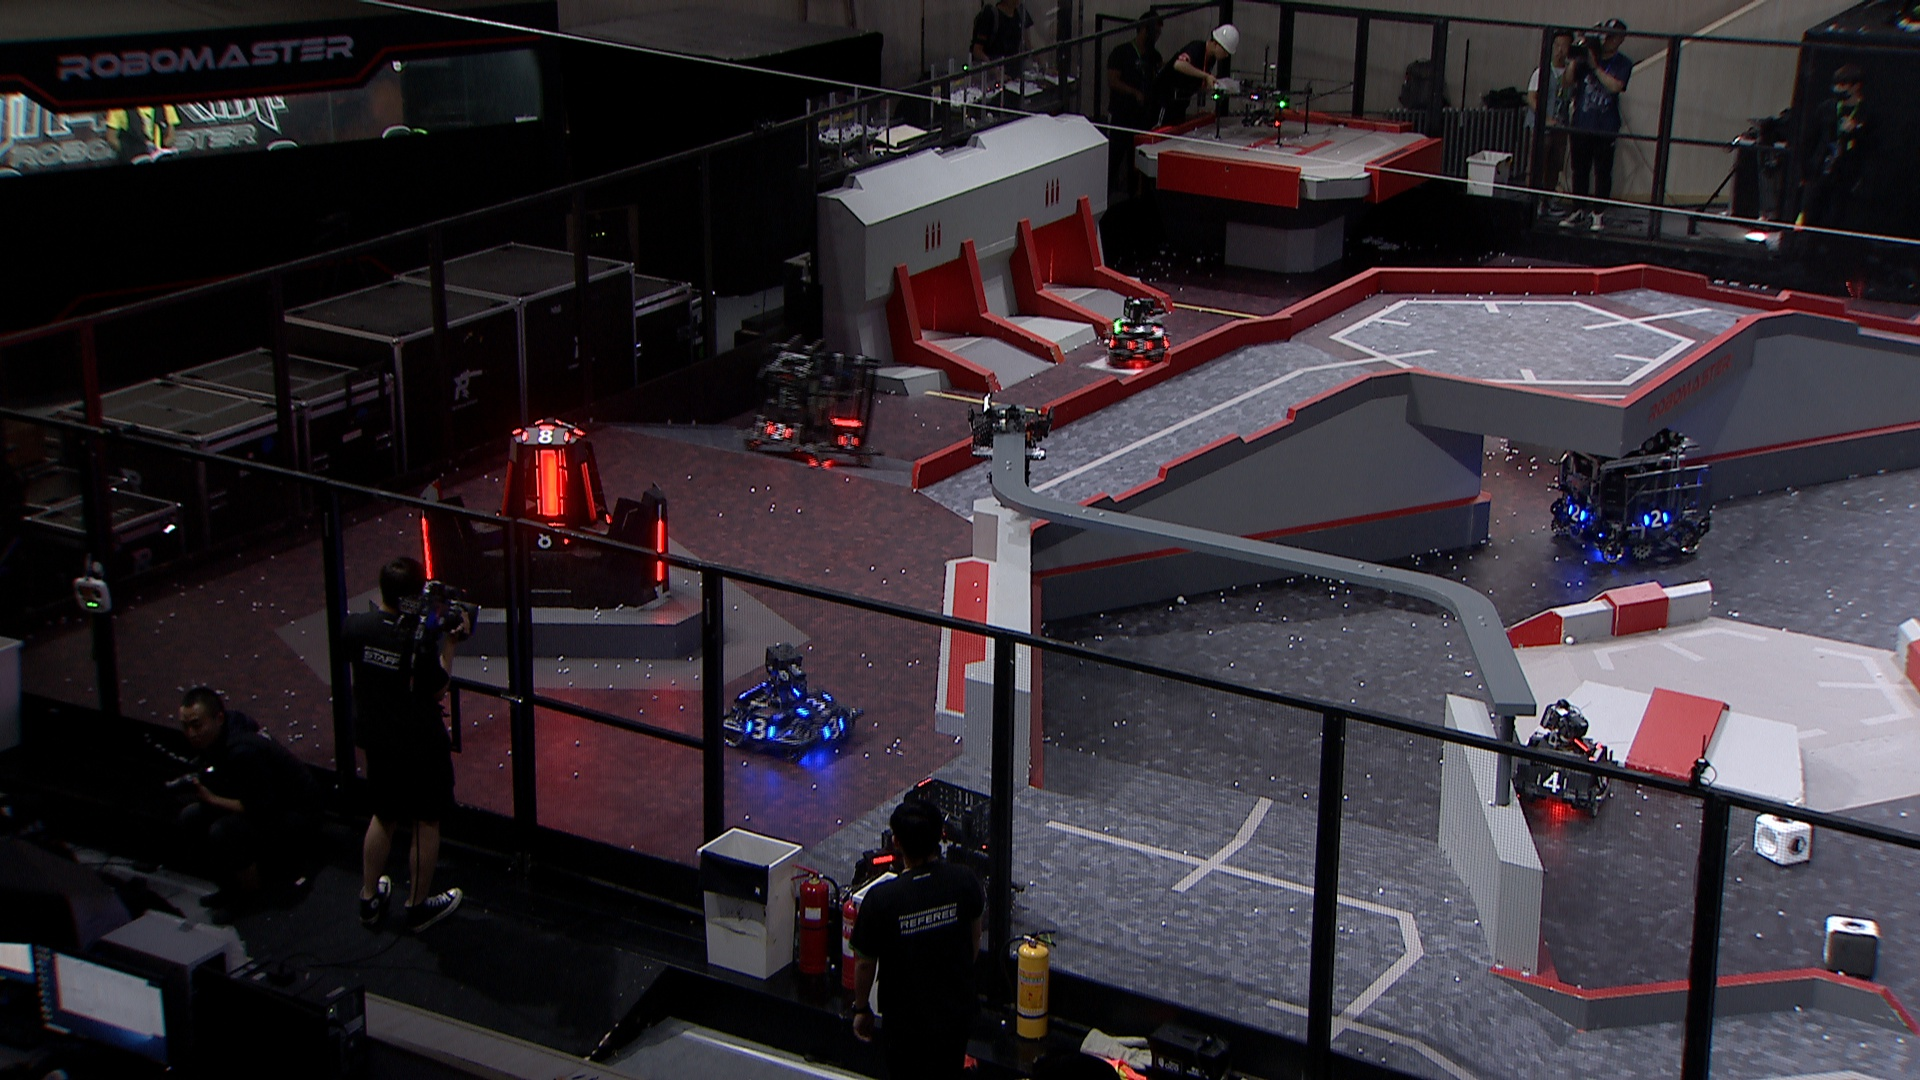armor: (535, 448, 564, 518), (495, 456, 516, 518), (579, 460, 599, 522), (419, 517, 438, 582), (520, 423, 570, 447), (741, 716, 778, 744), (794, 692, 836, 716), (531, 527, 571, 551), (654, 512, 667, 583), (1538, 769, 1571, 796), (1120, 318, 1160, 338), (820, 711, 847, 740), (761, 419, 795, 440), (1640, 509, 1669, 529), (1124, 338, 1154, 356), (833, 431, 861, 451), (1567, 498, 1586, 526), (1593, 769, 1610, 793)
base: (413, 414, 674, 612)
car: (841, 773, 1022, 934), (1544, 429, 1712, 566), (744, 338, 884, 472), (719, 640, 865, 764), (1510, 698, 1614, 818), (1102, 294, 1176, 367)
watcher: (965, 398, 1058, 491)
